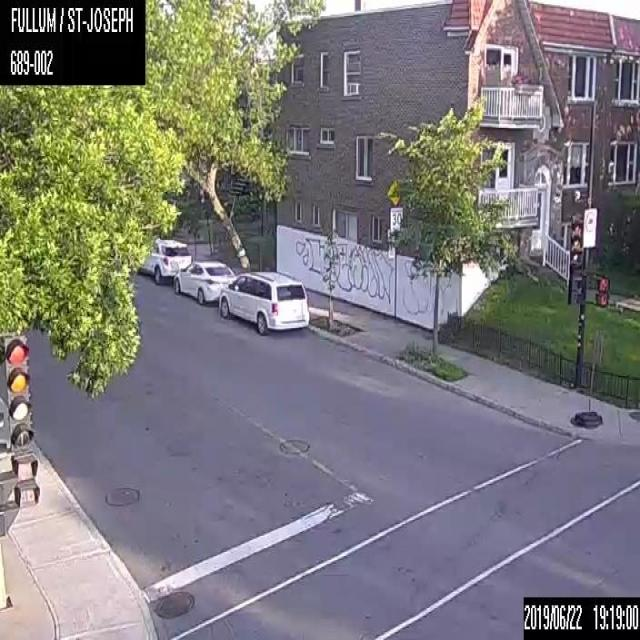construction: (570, 328, 604, 427)
vehicle: (218, 269, 311, 336), (172, 260, 236, 305), (136, 237, 192, 284)
